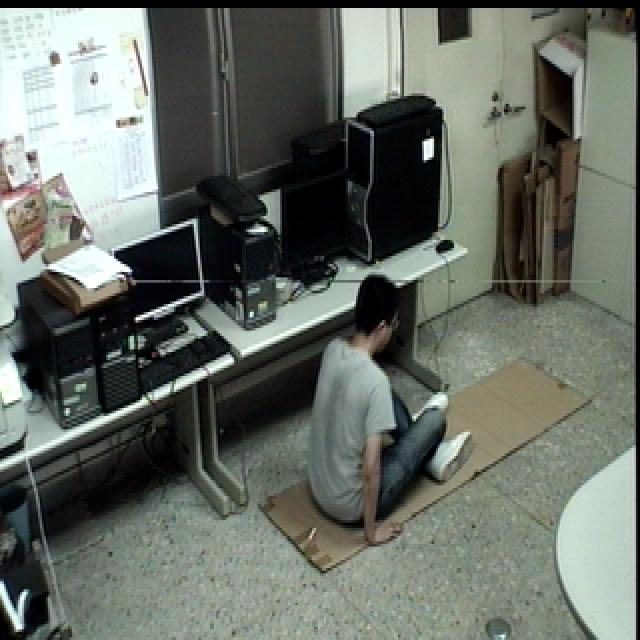sit: (301, 272, 481, 546)
